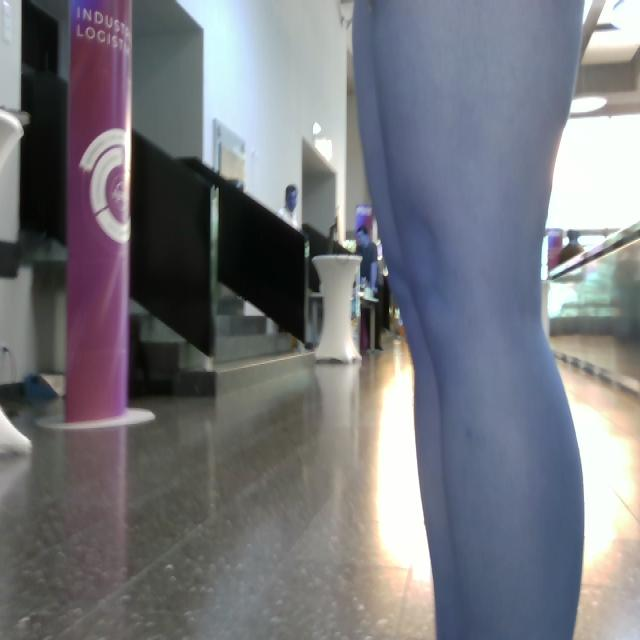light bulb: (1, 106, 34, 457), (312, 253, 364, 365), (1, 404, 33, 457)
pillar: (352, 1, 588, 638), (65, 1, 134, 424)
staircase: (129, 128, 319, 397)
tiled floor: (2, 327, 639, 639)
